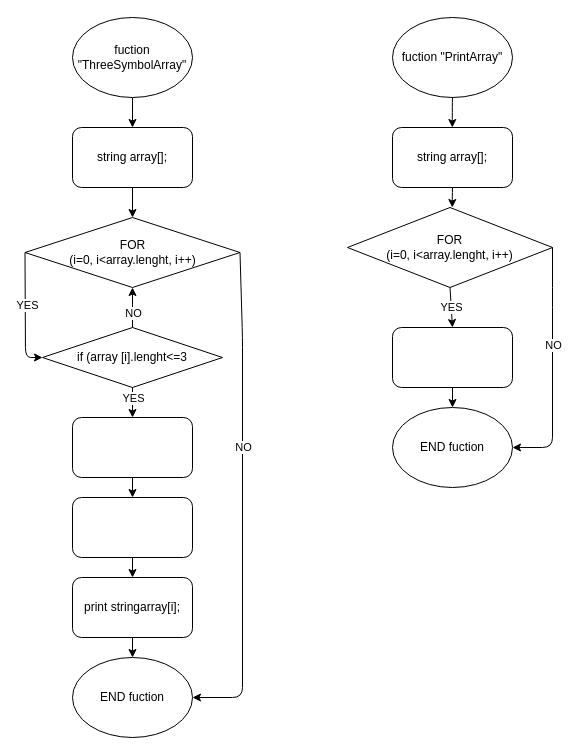
The diagram is 579 pixels wide and 755 high, and some of its shapes have lost their labels. The shapes that lost their labels are listed below. From the top down, each one's box as (x1, y1, x2, y2) in pixels, then its label:
(392, 326, 512, 388): print array[i];
(72, 416, 192, 478): string new array "stringarray"
(72, 496, 192, 558): stringarray[i] = array[i];
